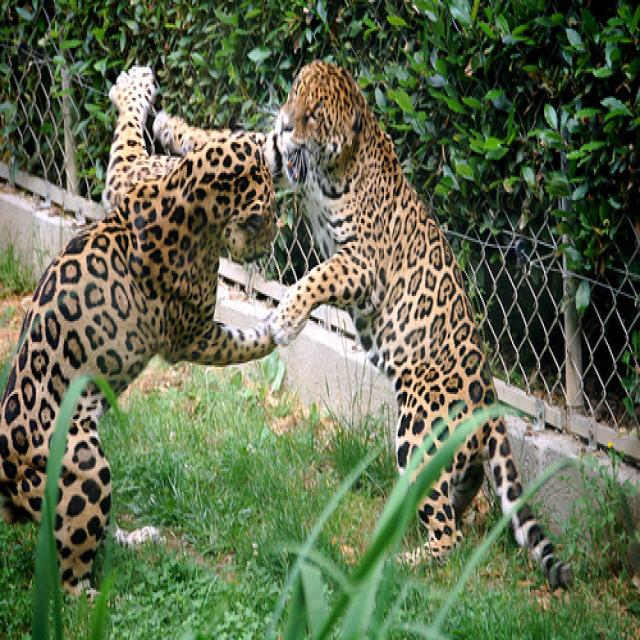Leopard: (152, 56, 576, 592), (0, 61, 276, 599)
